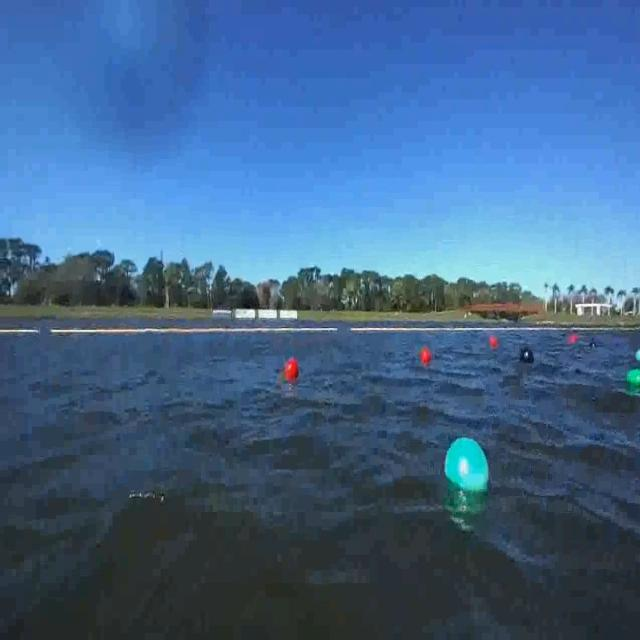black-buoy: (519, 347, 535, 365)
green-buoy: (444, 437, 490, 494), (626, 367, 640, 388)
red-buoy: (285, 358, 299, 382), (421, 348, 432, 366), (489, 337, 498, 349)
